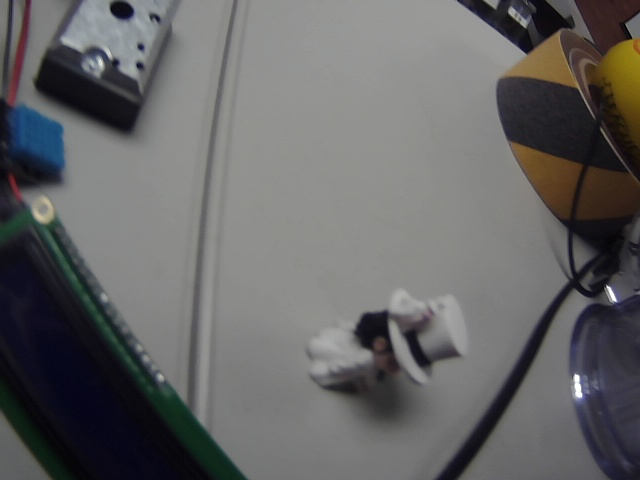lucci: (299, 285, 482, 409)
